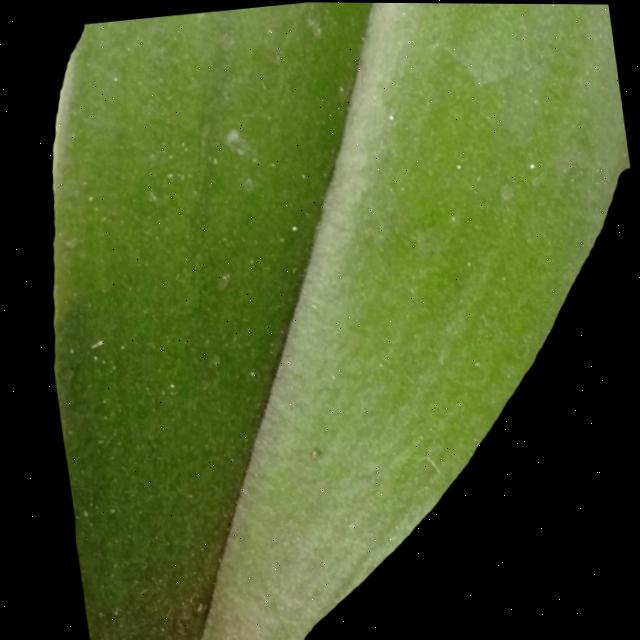mite: (26, 31, 394, 616), (448, 148, 539, 183), (220, 124, 251, 159), (51, 363, 75, 384), (520, 154, 539, 174), (238, 173, 256, 194), (213, 270, 231, 290), (202, 351, 220, 369), (283, 218, 301, 236), (85, 336, 103, 350), (305, 445, 318, 459), (524, 158, 535, 170), (469, 357, 480, 368), (287, 221, 297, 232), (244, 367, 254, 378), (452, 159, 462, 170)
